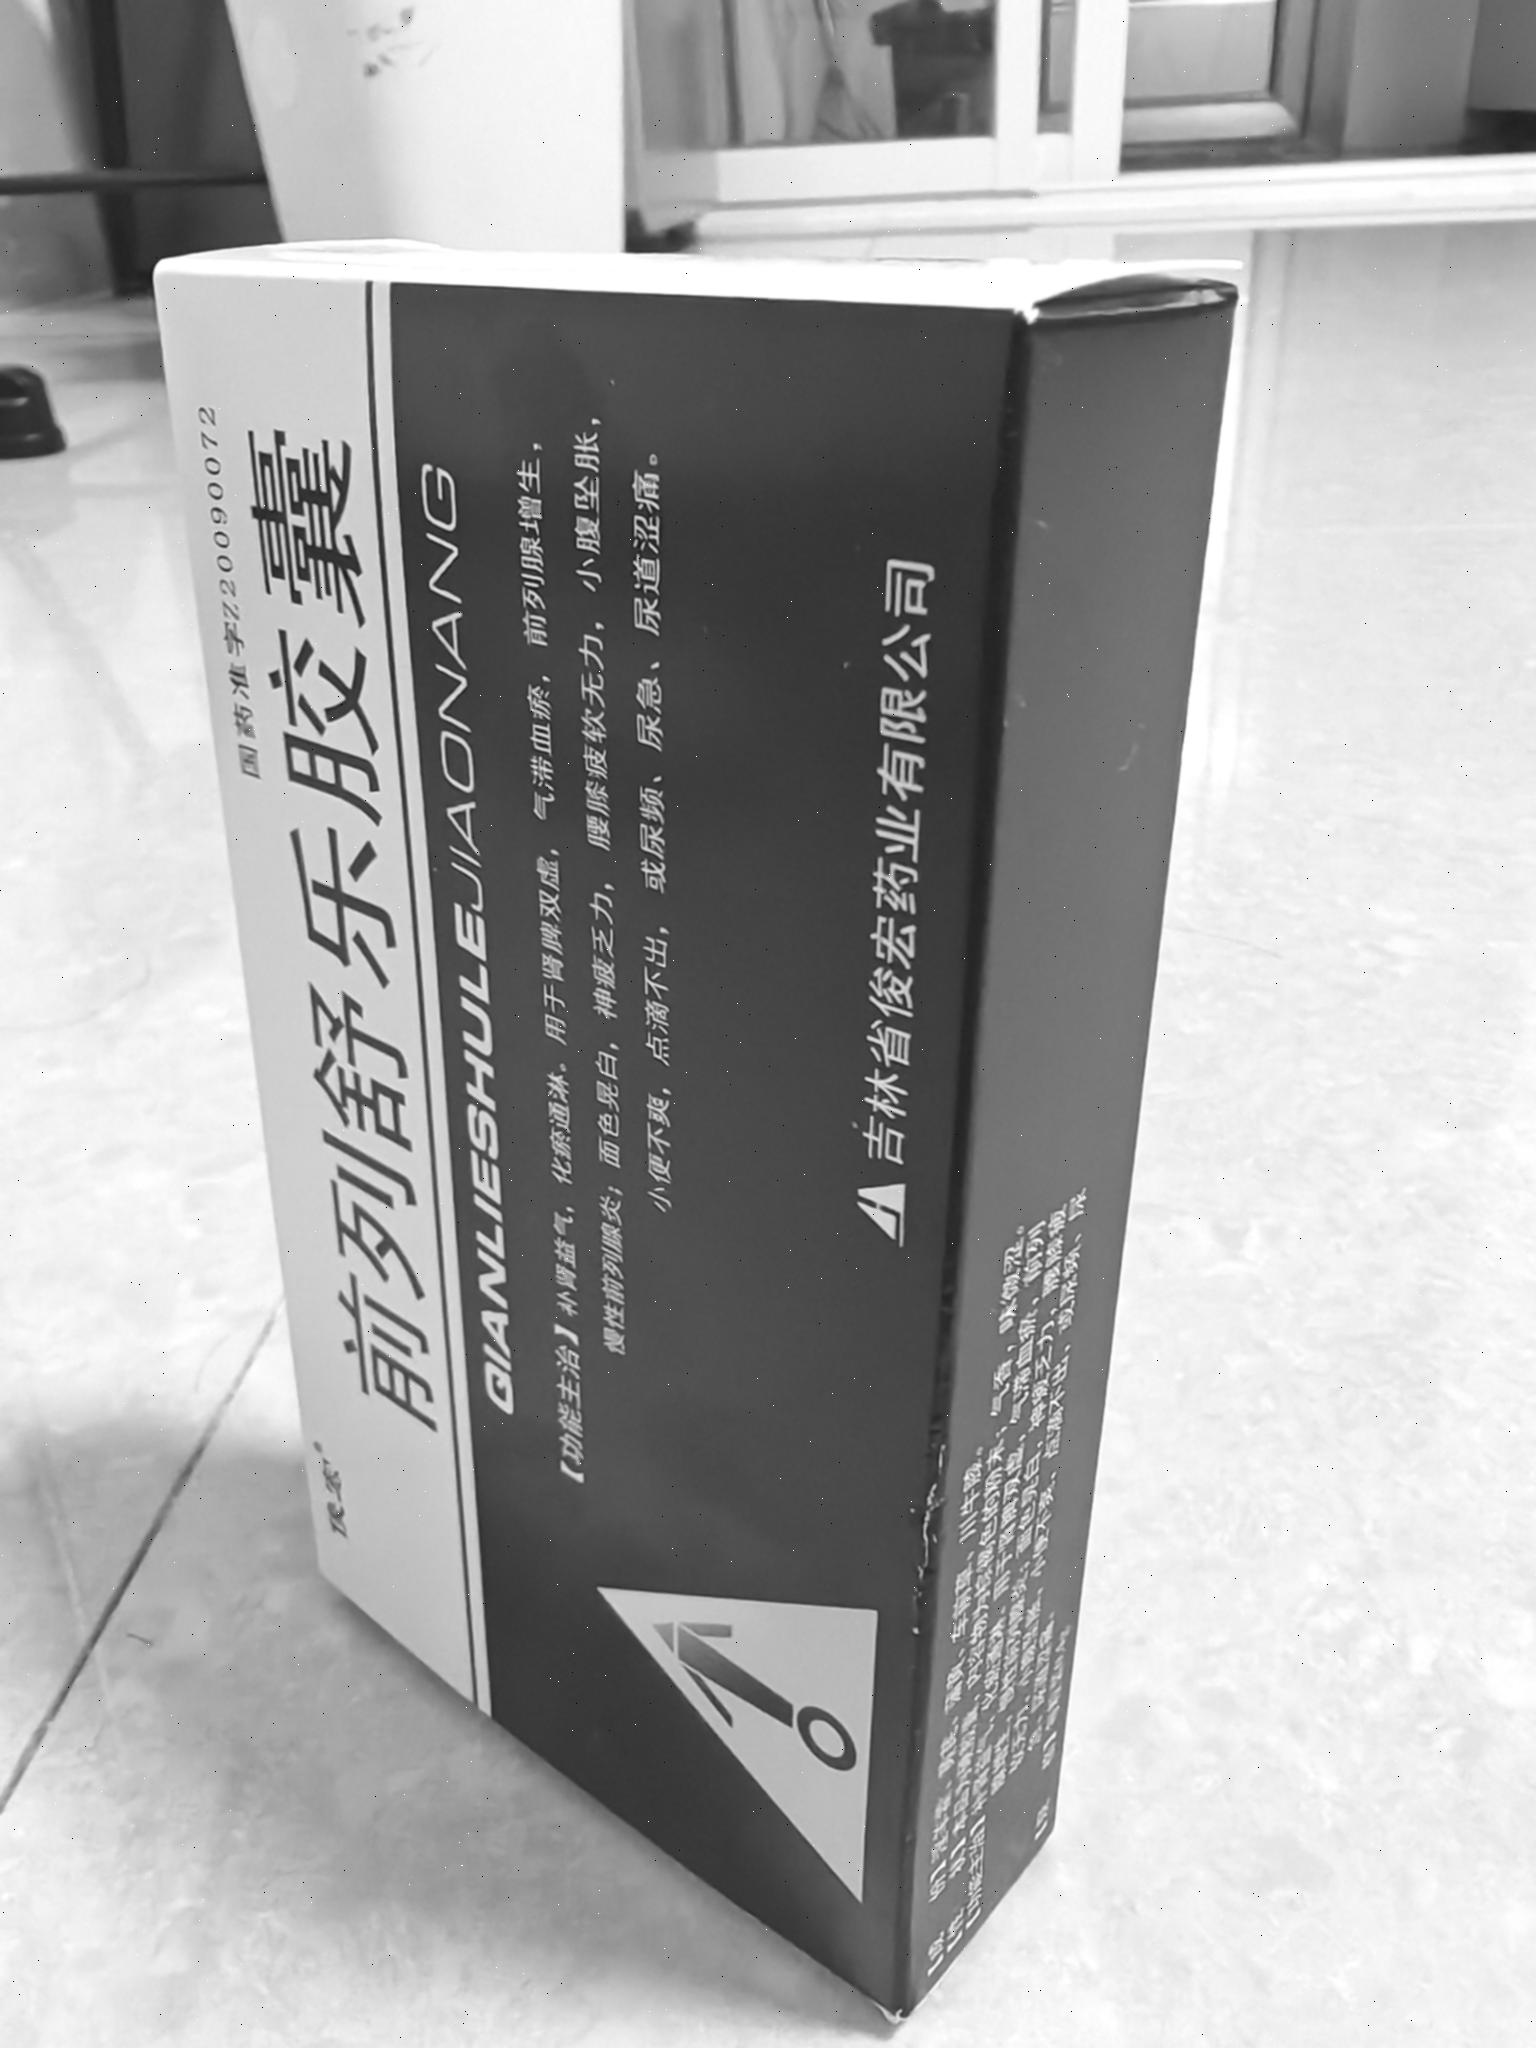Medicine2: (132, 214, 1263, 2035)
